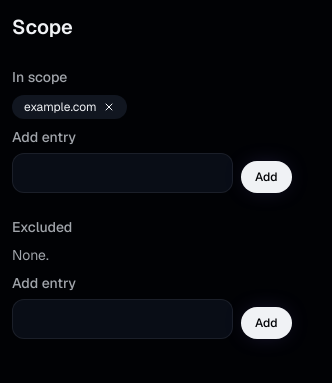
Scenario: ScopeEditor › rejects a duplicate entry instead of adding it a second time (BUG #11)
This screenshot has width=332, height=383.
Type "example.com" into the field labelled "Add entry" below "example.com" at (122, 173), box [12,153,233,193]
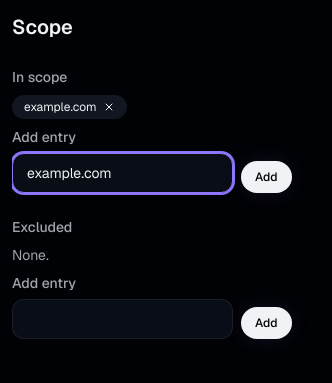
Click the button "Add" below "example.com" at (266, 177), box [241,161,292,193]
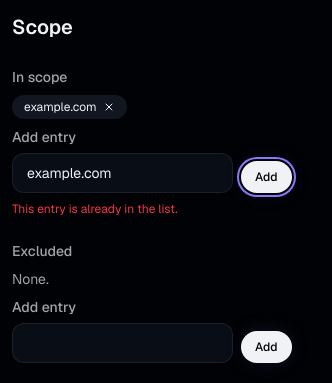
Check: the number of list items "example.com" is 1, box [12,95,126,119]
Check: the message reads "This entry is already in the list.", box [12,201,178,217]
